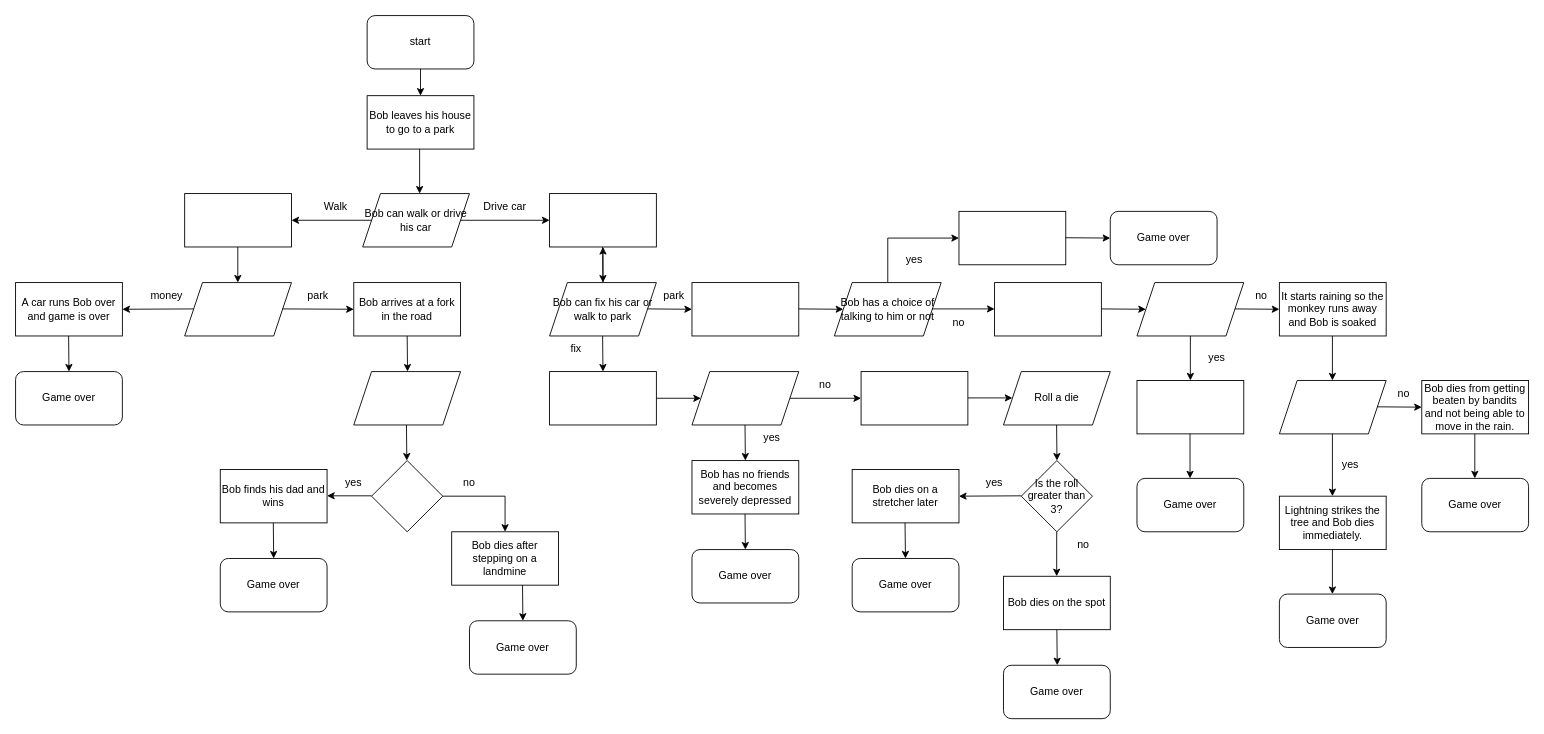
The diagram is 1544 pixels wide and 734 high, and some of its shapes have lost their labels. The centre of each missing label's shape, as x and y in pixels:
Bob can catch it or not: pixel 1190 309
Bob can go for the money or go to the park: pixel 237 309
Bob continues to the park and spots a monkey: pixel 1047 309
Bob fixes his car and sees his friends: pixel 602 398
Bob gets in his car but it doesn't work: pixel 602 220
Bob has a choice of hiding under a tree or not: pixel 1332 407
Bob has a choice of picking them up or not: pixel 745 398
Bob spots money while walking: pixel 237 220
Bob walks to the park and sees his first grade teacher.: pixel 745 309
Bob's car crashes into his grandma's house: pixel 914 398
Flip a coin: pixel 407 398
Heads?: pixel 407 496
It was not his teacher and Bob dies from embarrassment.: pixel 1012 237
The monkey breaks the windshield of his car and attacks him.: pixel 1190 407
